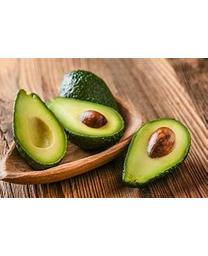avocado: (122, 118, 192, 187), (43, 96, 126, 154), (11, 87, 69, 169), (60, 69, 131, 127)
